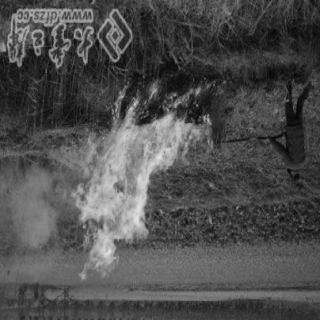Fire: (75, 76, 218, 276)
other: (271, 88, 311, 182)
